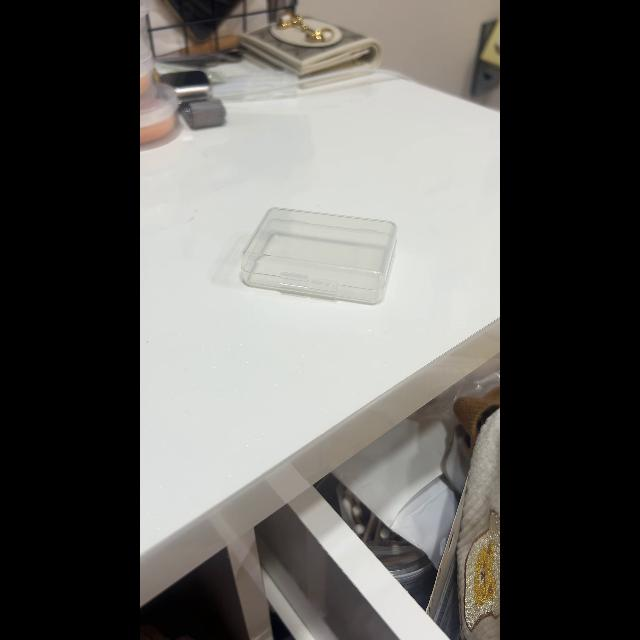clean: (242, 200, 398, 304)
